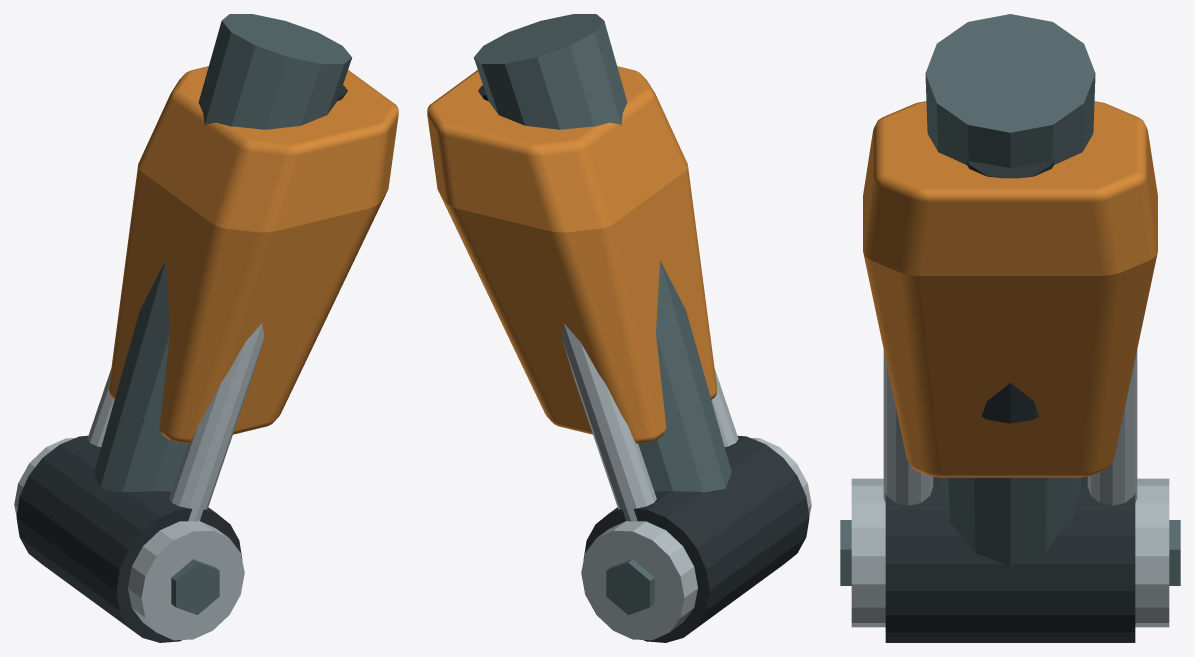
File: SM_LoaderShin.fbx
The picture shows the model from 3 angles, left to right: view 1: azimuth 30°, elevation 25°; view 2: azimuth 150°, elevation 25°; view 3: azimuth 270°, elevation 25°; orthographic projection. The views are drawn at different scales.
Visible parts, largest first — view 1: SM_LoaderShin; view 2: SM_LoaderShin; view 3: SM_LoaderShin.
Part boxes in pixels (x1,y1,x2,y2): SM_LoaderShin: (14, 14, 398, 642); SM_LoaderShin: (427, 14, 811, 642); SM_LoaderShin: (840, 14, 1180, 642).
Bounding box in the file's own units: 37.78 × 30 × 66.48.
